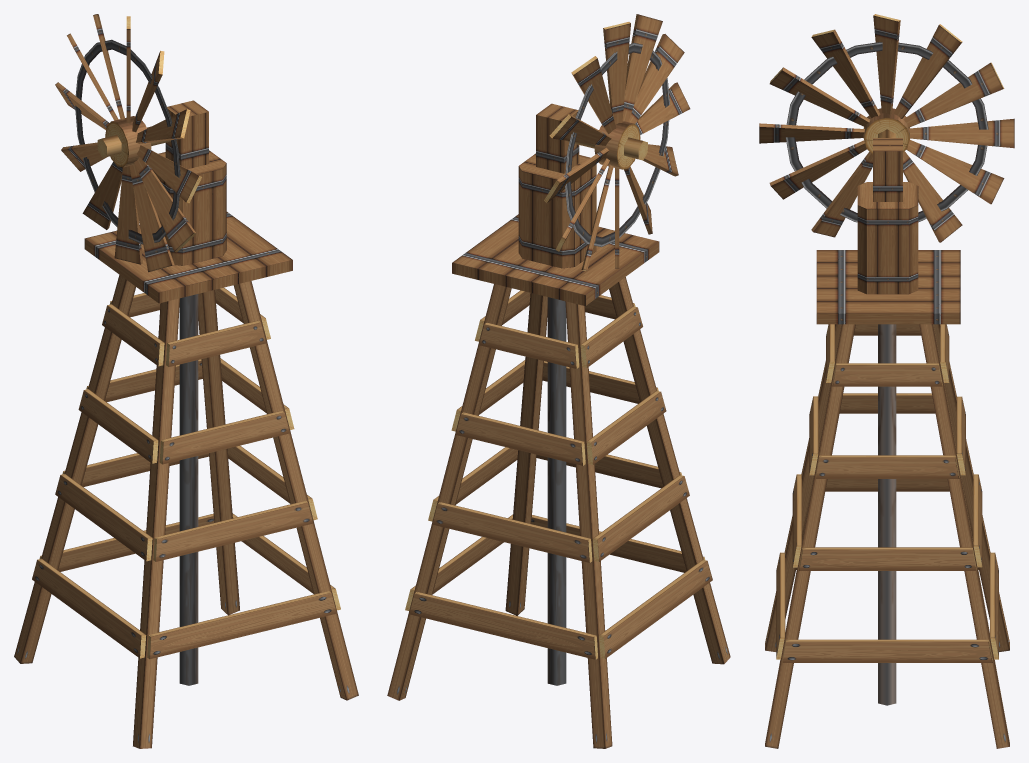
The model's file is Eole_01.FBX.
The picture shows the model from 3 angles, left to right: view 1: azimuth 30°, elevation 25°; view 2: azimuth 150°, elevation 25°; view 3: azimuth 270°, elevation 25°; orthographic projection. The views are drawn at different scales.
Visible parts, largest first — view 1: Base, Wheel; view 2: Base, Wheel; view 3: Base, Wheel.
Part boxes in pixels (box(x1,y1,x2,y2)): Base: box(14, 100, 358, 748); Wheel: box(55, 14, 201, 272); Base: box(387, 103, 730, 748); Wheel: box(544, 14, 690, 270); Base: box(765, 129, 1009, 748); Wheel: box(759, 14, 1014, 242).
Size of the model in its own units: 3.44 by 10.07 by 3.56.
